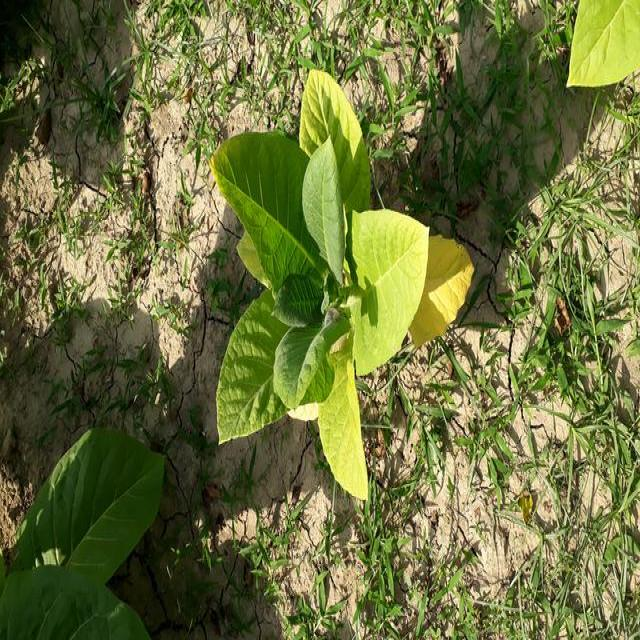crop: (206, 68, 476, 503)
